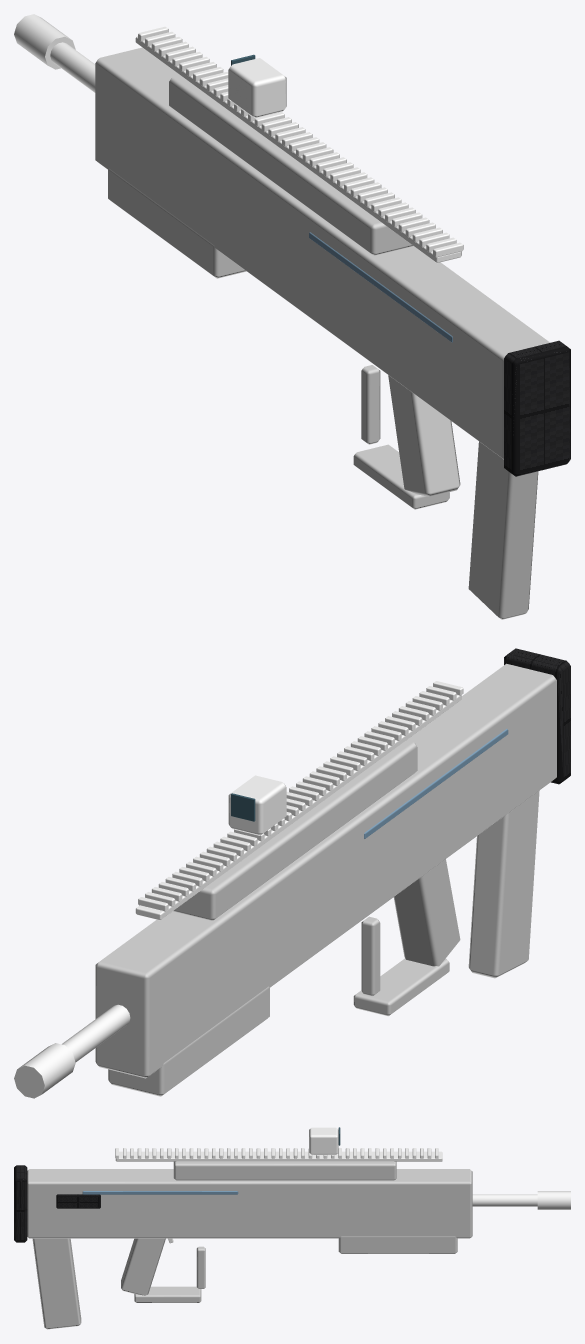
Rendered from mako.glb.
The picture shows the model from 3 angles, top to bottom: view 1: azimuth 30°, elevation 25°; view 2: azimuth 150°, elevation 25°; view 3: azimuth 270°, elevation 25°; orthographic projection. The views are drawn at different scales.
Bounding box in the file's own units: 0.053 × 0.291 × 0.7495.
Materials: 5 (1 with a texture image).
